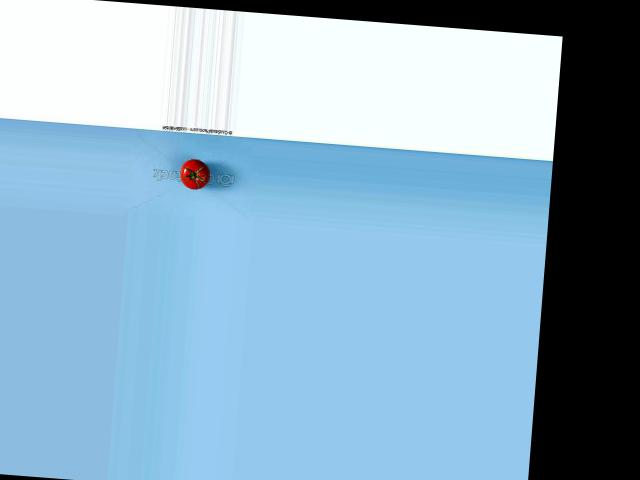tomato: (179, 157, 210, 189)
